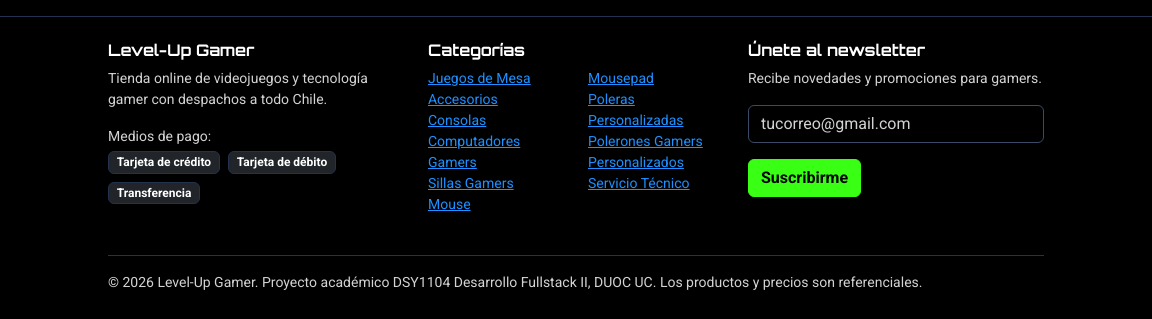
it: Footer (newsletter) › valida el correo del newsletter antes de suscribir
Click the button "Suscribirme" at [805, 178], box [748,159,861,197]
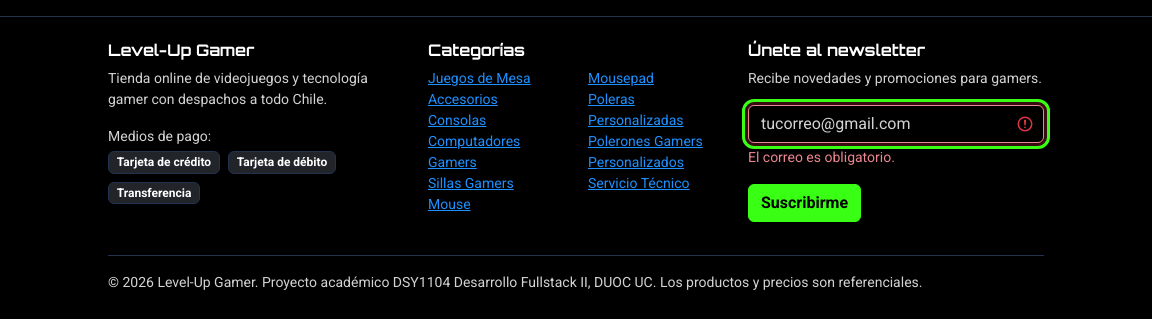
Result: the text "El correo es obligatorio." is shown at [748,149,895,165]
Type "ana@hotmail.com" into the field named "Correo para el newsletter" at [896, 124], box [748,105,1044,143]
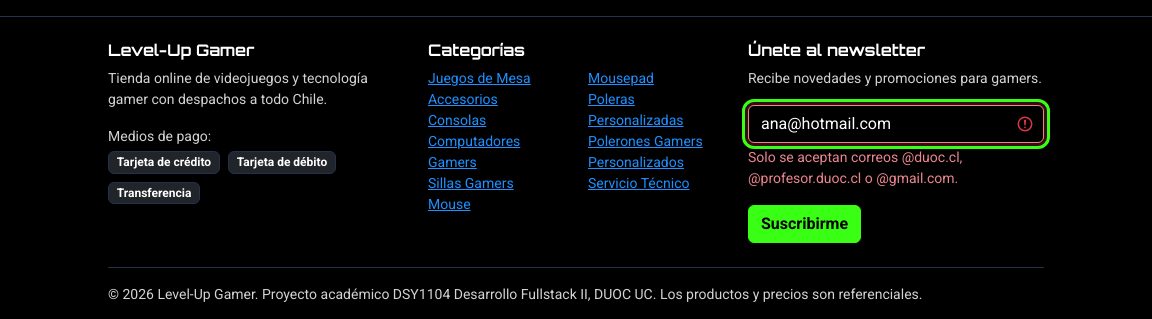
Result: the text "Solo se aceptan correos" is shown at [748,149,962,186]
